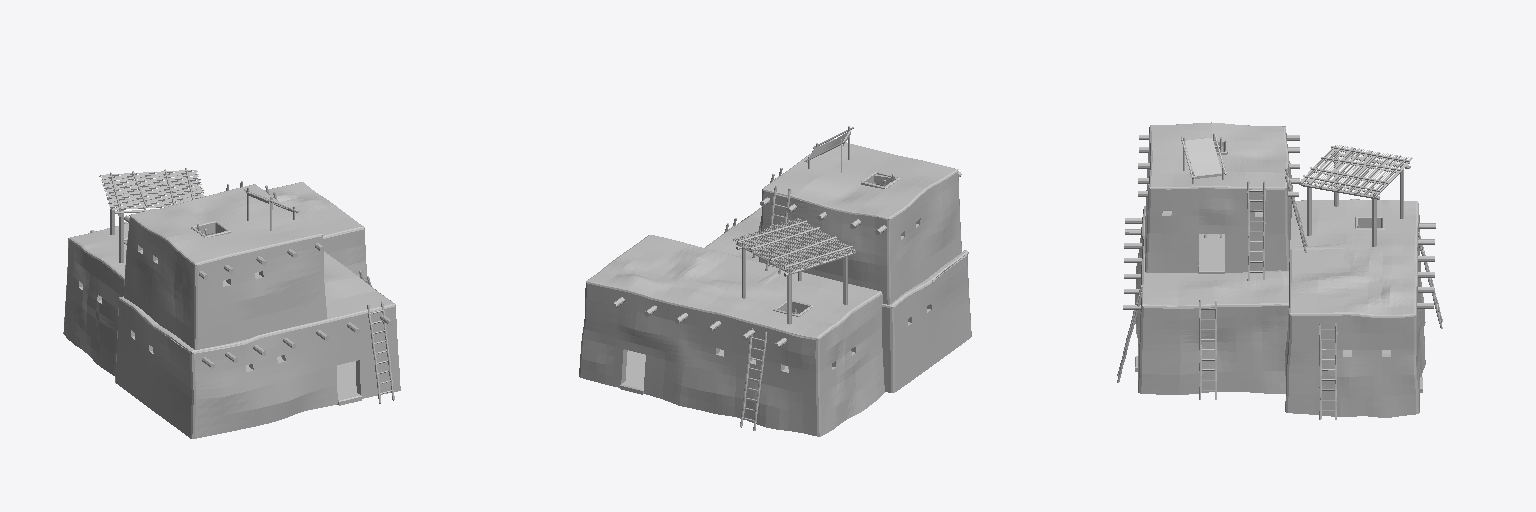
File: midpoly_turkish_house_004.obj
The picture shows the model from 3 angles: view 1: azimuth 30°, elevation 25°; view 2: azimuth 150°, elevation 25°; view 3: azimuth 270°, elevation 25°; orthographic projection.
Visible parts, largest first — view 1: Cube.104, Cube.105, Cube.103, Cylinder.063, Cube.161, Cube.002; view 2: Cube.103, Cube.105, Cube.104, Cylinder.063, Cube.160, Cube.001; view 3: Cube.103, Cube.104, Cube.105, Cylinder.063, Plane.007, Cube.185, Cube.159, Cube.162.
Part boxes in pixels (bbox=[...]): Cube.104: bbox=[115, 251, 400, 438]; Cube.105: bbox=[124, 184, 327, 349]; Cube.103: bbox=[63, 182, 367, 376]; Cylinder.063: bbox=[99, 168, 205, 262]; Cube.161: bbox=[367, 301, 394, 403]; Cube.002: bbox=[246, 356, 356, 394]; Cube.103: bbox=[579, 235, 884, 436]; Cube.105: bbox=[759, 139, 961, 304]; Cube.104: bbox=[705, 207, 971, 392]; Cylinder.063: bbox=[733, 218, 855, 324]; Cube.160: bbox=[740, 328, 766, 430]; Cube.001: bbox=[626, 349, 787, 383]; Cube.103: bbox=[1285, 199, 1425, 417]; Cube.104: bbox=[1135, 206, 1288, 394]; Cube.105: bbox=[1145, 122, 1292, 272]; Cylinder.063: bbox=[1299, 145, 1412, 246]; Plane.007: bbox=[1185, 137, 1221, 178]; Cube.185: bbox=[1247, 181, 1265, 280]; Cube.159: bbox=[1319, 323, 1337, 419]; Cube.162: bbox=[1199, 300, 1216, 399].
Size of the model in its own units: 7.26 by 5.28 by 7.62.